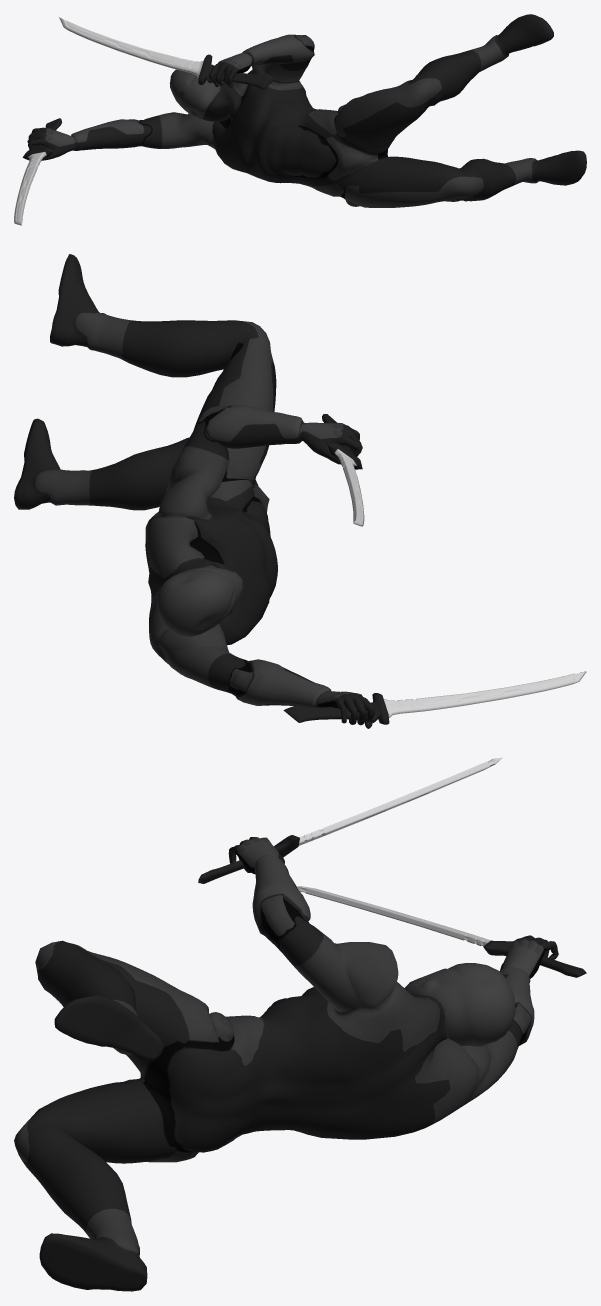
3 views of the same model, one above another, from view 1: azimuth 30°, elevation 25°; view 2: azimuth 150°, elevation 25°; view 3: azimuth 270°, elevation 25° (orthographic). The views are drawn at different scales.
Visible parts, largest first — view 1: Cyborg_Ninja_Killer, Sword_l, Sword_l001; view 2: Cyborg_Ninja_Killer, Sword_l001, Sword_l; view 3: Cyborg_Ninja_Killer, Sword_l, Sword_l001.
Part boxes in pixels (box(x1,y1,x2,y2)): Cyborg_Ninja_Killer: box(27, 14, 586, 207); Sword_l: box(59, 17, 275, 89); Sword_l001: box(14, 118, 62, 225); Cyborg_Ninja_Killer: box(14, 254, 374, 728); Sword_l001: box(283, 671, 586, 724); Sword_l: box(322, 414, 364, 526); Cyborg_Ninja_Killer: box(14, 837, 558, 1291); Sword_l: box(198, 757, 502, 883); Sword_l001: box(296, 886, 586, 977).
Size of the model in its own units: 209 by 73.38 by 137.
Materials: 2 (2 with a texture image).
